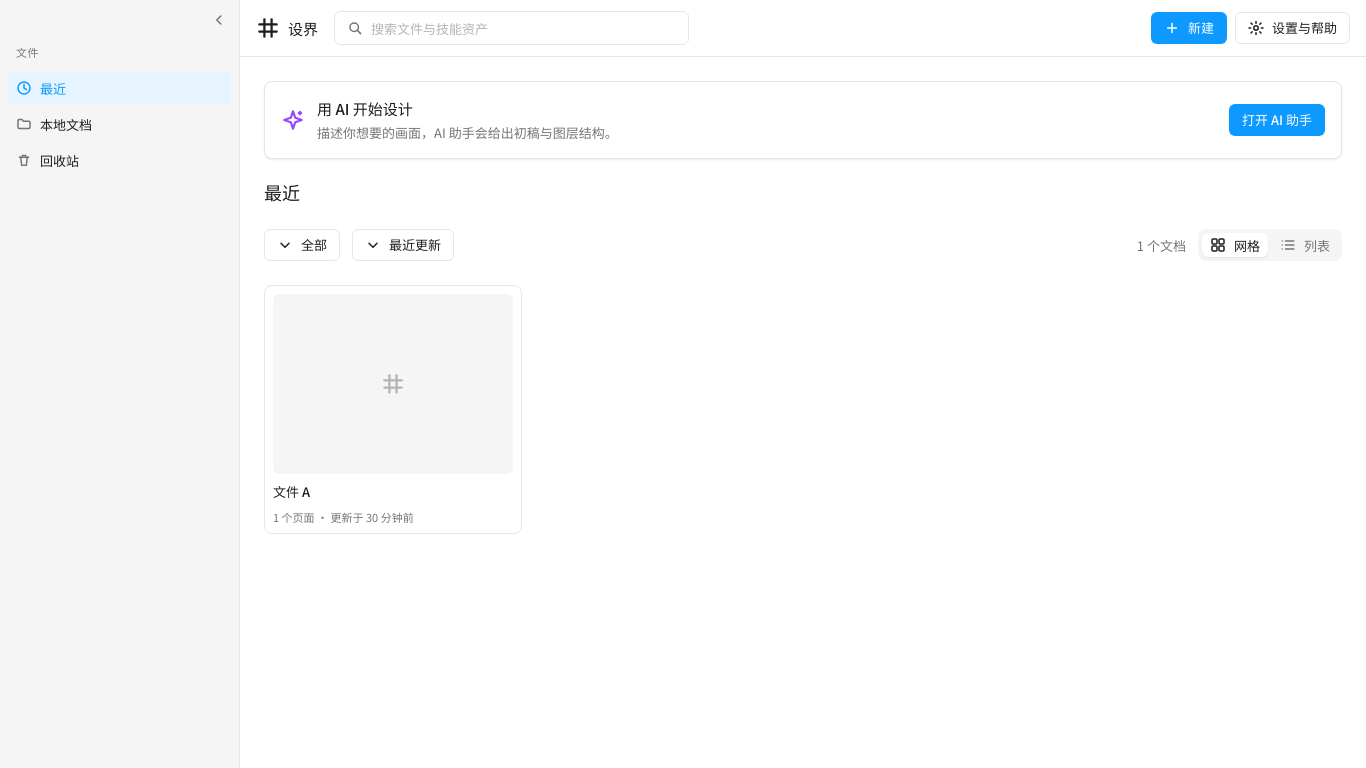
Test: 对抗 · 搜索与市场降级 › 市场检索不可用（available=false）→ 下拉给「市场不可用」而不是空白
This screenshot has width=1366, height=768.
Expected: the link with aria-label "打开「文件 A」" is shown, [264,285,522,534]
Type "海" into the search field labelled "搜索文件与技能资产".
click(524, 28); type("海")  # box [371,12,676,44]
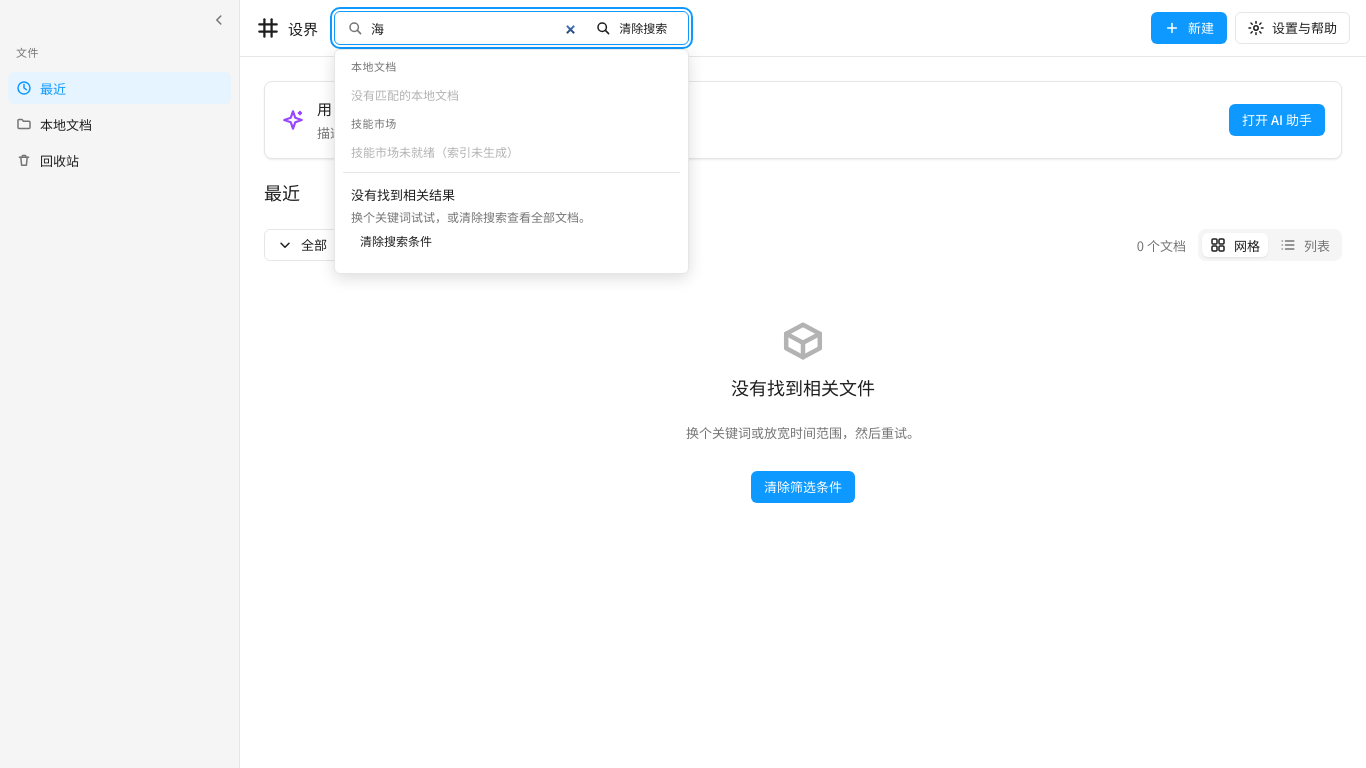
Result: the text "技能市场未就绪（索引未生成）" is shown at [351,143,519,160]
